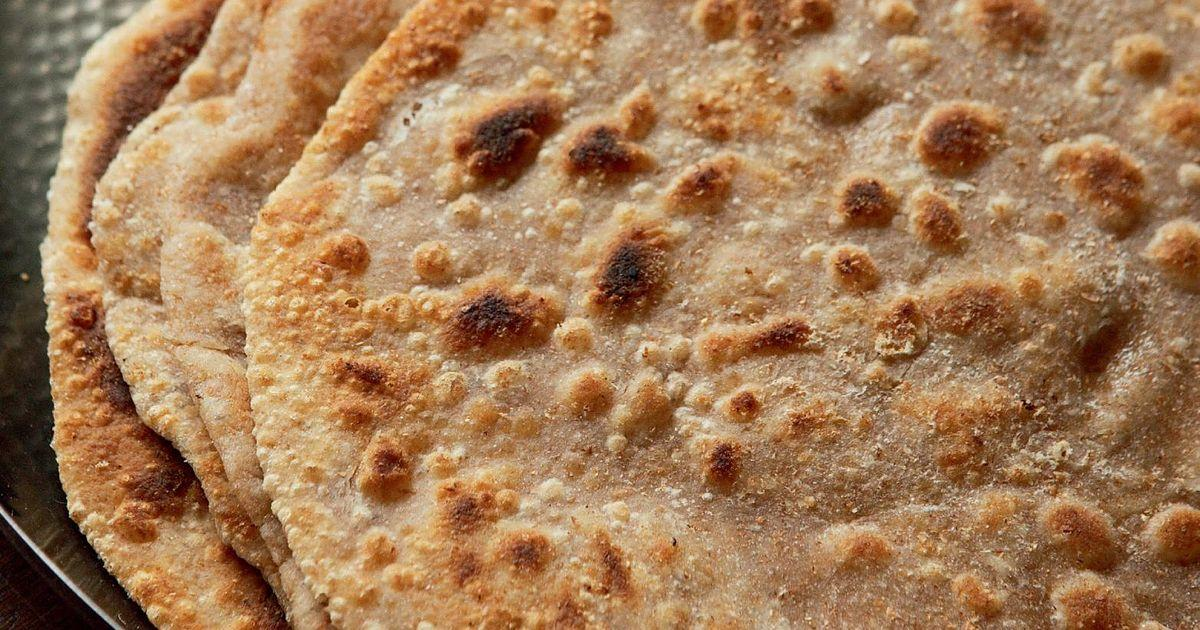chapati: (244, 0, 1200, 627)
